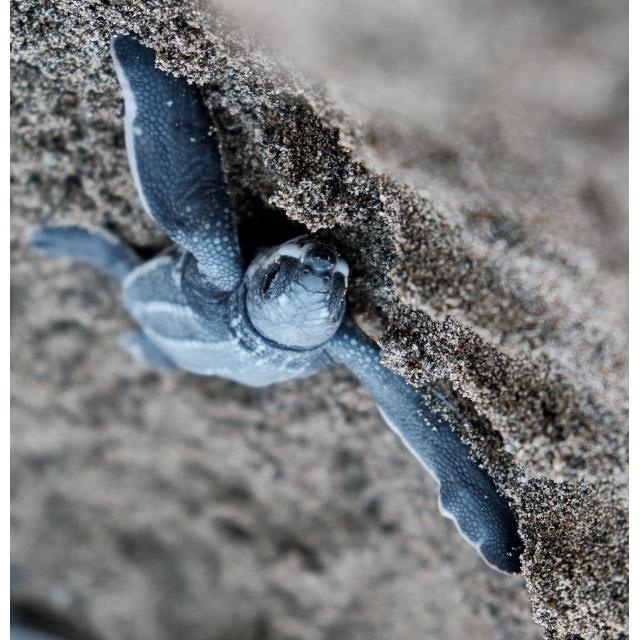turtle: (33, 34, 529, 574)
